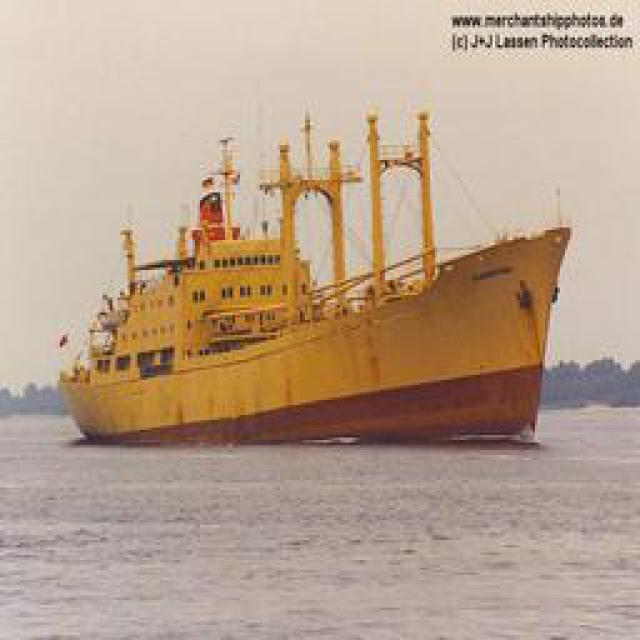Ship: (60, 124, 570, 449)
